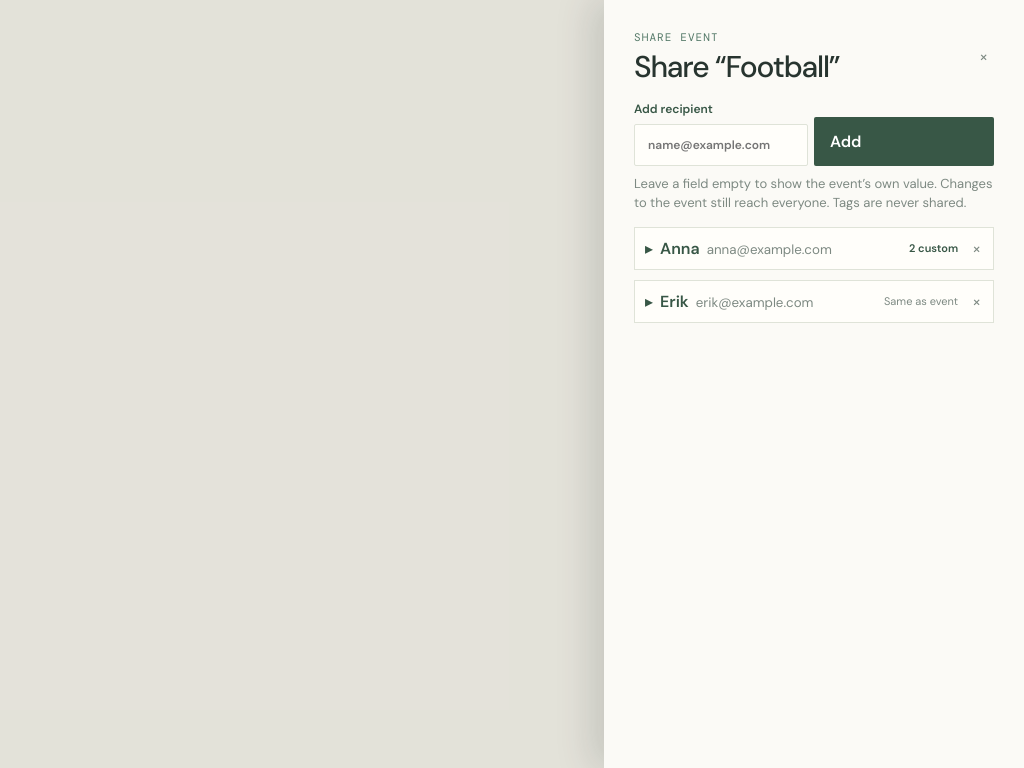
Scenario: ShareEventDrawer › adds a recipient and shows errors from the server
Type " Nobody@Example.com" into the field labelled "Add recipient" at (721, 144), box [634, 124, 808, 166]
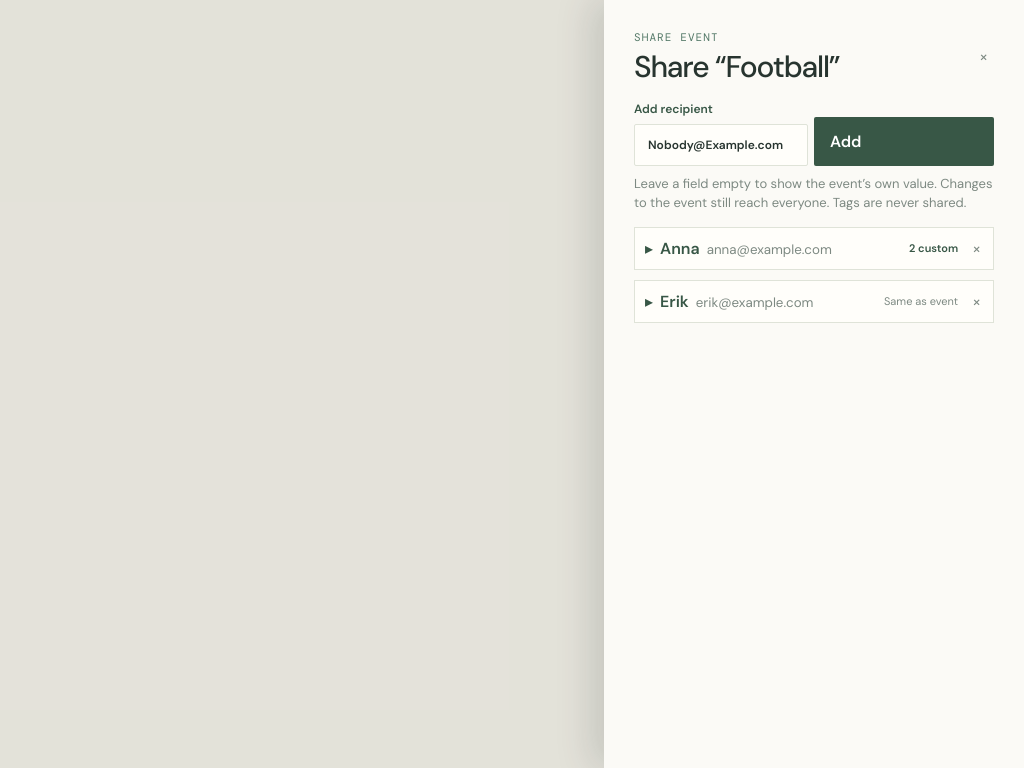
Click the button "Add" at (904, 141), box [814, 116, 994, 166]
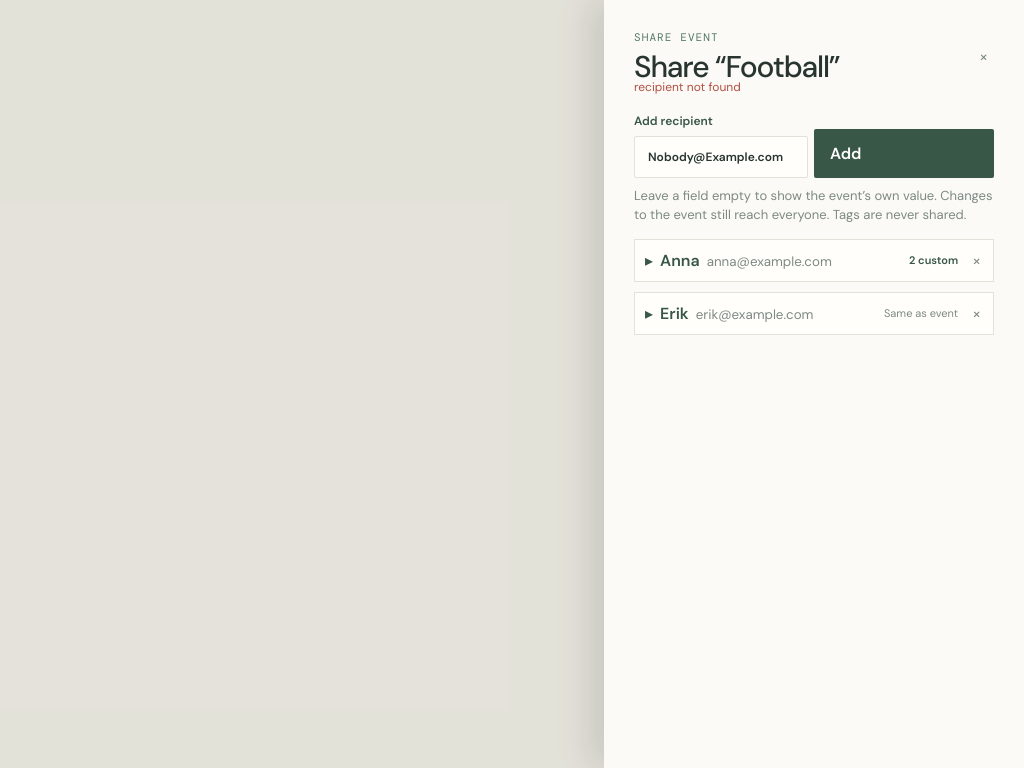
Check: the message reads "recipient not found", box [634, 78, 741, 94]
Replace the text in the field labelled "Add recipient" with "erik@example.com" at (721, 156), box [634, 136, 808, 178]
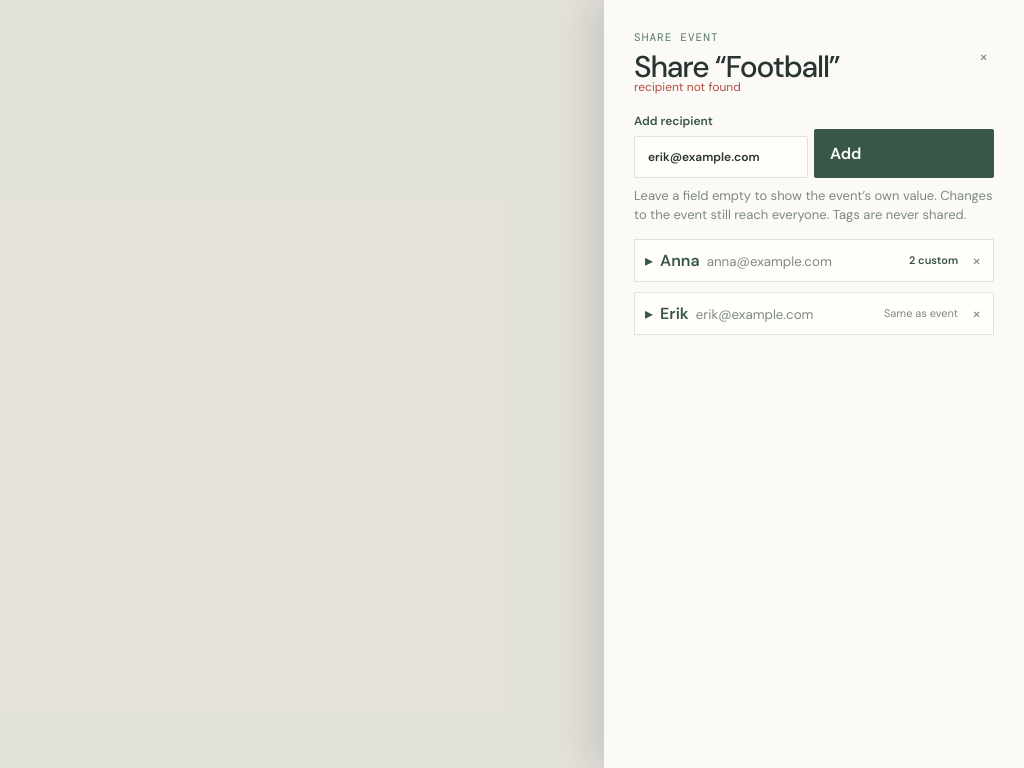
Click the button "Add" at (904, 153), box [814, 128, 994, 178]
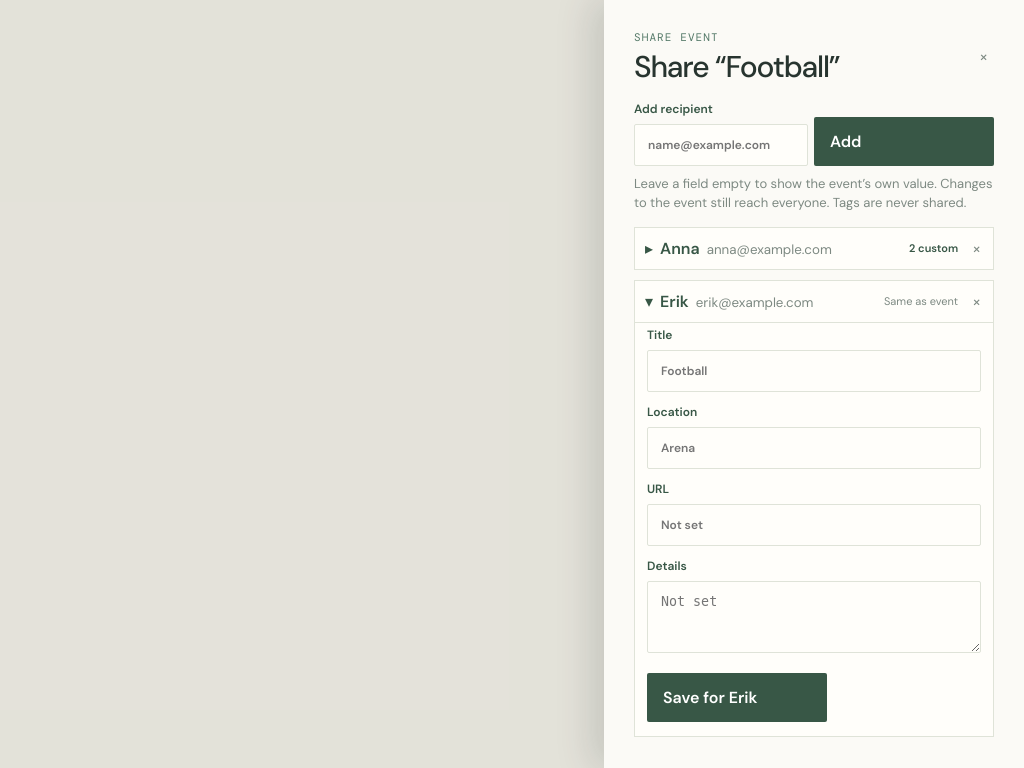
Check: the message "recipient not found" is gone
Check: the button "▾ Erik erik@example.com" is expanded, box [645, 286, 876, 316]
